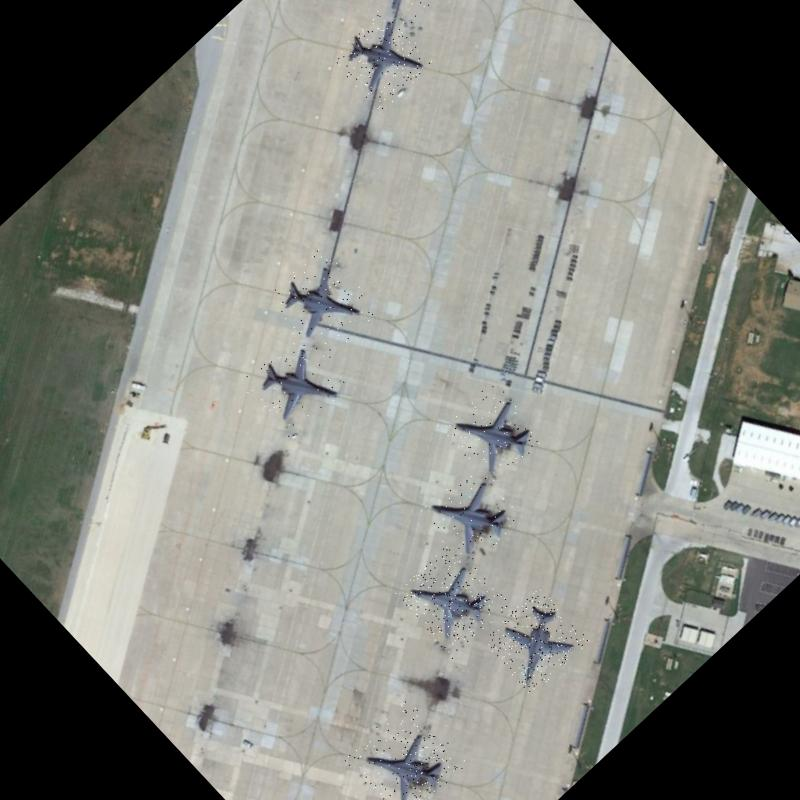A10: (393, 540, 511, 658), (264, 244, 381, 362), (343, 697, 469, 800), (238, 328, 350, 440), (437, 375, 548, 486), (481, 586, 590, 695), (328, 5, 435, 113), (417, 462, 524, 570), (347, 0, 463, 33)
